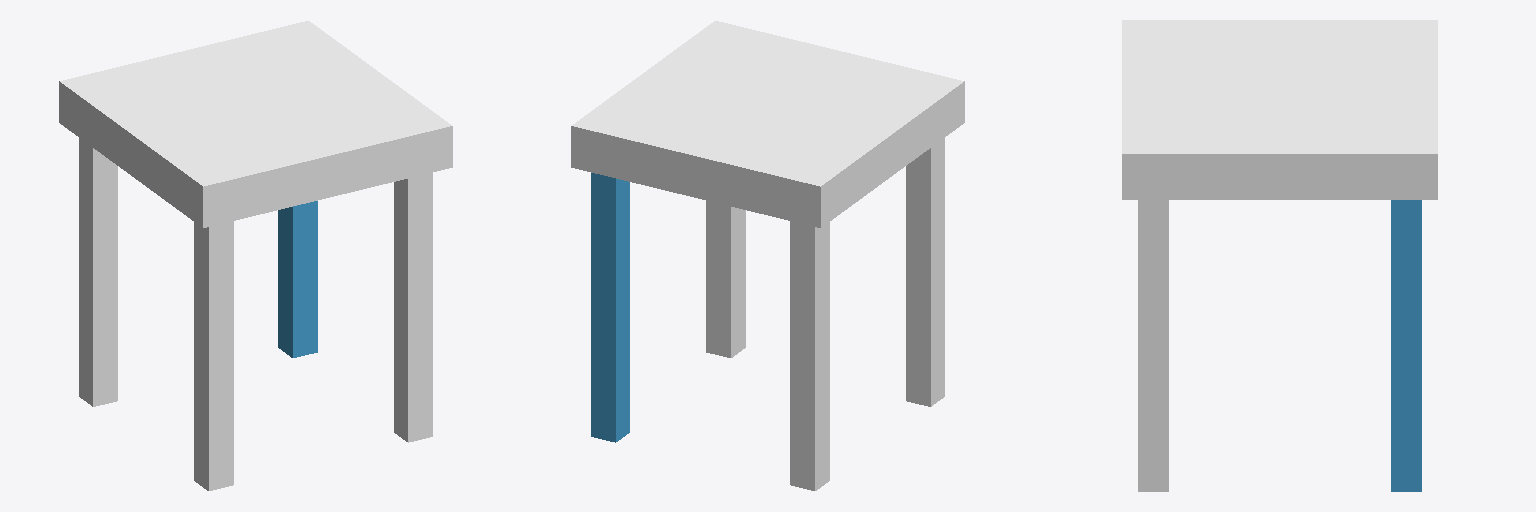
The robot description file, URDF, robot "urdf_table":
<?xml version="0.0" ?>
<robot name="urdf_table">

 <link name="world"/>
  <joint name="fixed" type="fixed">
    <parent link="world"/>
    <child link="baseLink"/>
    <origin xyz="0 0 0"/>
  </joint>

  <link name="baseLink">
    <inertial>
      <origin rpy="0 0 0" xyz="0 0 0.6"/>
       <mass value="0"/>
       <inertia ixx="0.1" ixy="0" ixz="0" iyy="0.1" iyz="0" izz="0.1"/>
    </inertial>
    <visual>
      <origin rpy="0 0 0" xyz="0 0 0.56"/>
      <geometry>
	    <!-- <mesh filename="table.obj" scale="0.6 0.6 0.08"/> -->
        <box size="0.5 0.5 0.08"/>
      </geometry>
	   <material name="framemat0">
      <color rgba="1 1 1 1" />
      </material>
    </visual>
    <visual>
      <origin rpy="0 0 0" xyz="-0.2 -0.2 0.26"/>
      <geometry>
        <box size="0.05 0.05 0.52"/>
      </geometry>
	  <material name="framemat0"/>	 
    </visual>
    <visual>
      <origin rpy="0 0 0" xyz="-0.2 0.2 0.26"/>
      <geometry>
        <box size="0.05 0.05 0.52"/>
      </geometry>
	  <material name="framemat0"/>
	  </visual>
    <visual>
      <origin rpy="0 0 0" xyz="0.2 -0.2 0.26"/>
      <geometry>
        <box size="0.05 0.05 0.52"/>
      </geometry>
	  <material name="framemat0"/>
	  </visual>
    <visual>
      <origin rpy="0 0 0" xyz="0.2 0.2 0.26"/>
      <geometry>
        <box size="0.05 0.05 0.52"/>
      </geometry>
    </visual>
    <collision>
      <origin rpy="0 0 0" xyz="0 0 0.3"/>
      <geometry>
      <box size="0.5 0.5 0.6"/>
      </geometry>
    </collision>    
  </link>
</robot>

--- Render facts (derived) ---
The picture shows the robot from 3 angles, left to right: view 1: azimuth 30°, elevation 25°; view 2: azimuth 150°, elevation 25°; view 3: azimuth 270°, elevation 25°; orthographic projection.
Model urdf_table with 2 links and 1 joints (1 fixed), rooted at world, posed every joint at zero.
Links seen in each view (by area): view 1: baseLink; view 2: baseLink; view 3: baseLink.
Boxes of the visible links, x1=… form: baseLink: x1=59, y1=21, x2=452, y2=490; baseLink: x1=571, y1=21, x2=964, y2=490; baseLink: x1=1122, y1=20, x2=1437, y2=491.
Bounding box of the posed robot: 0.5 × 0.5 × 0.6 m (x, y, z).
Geometry: primitives only (box / cylinder / sphere), no mesh files.